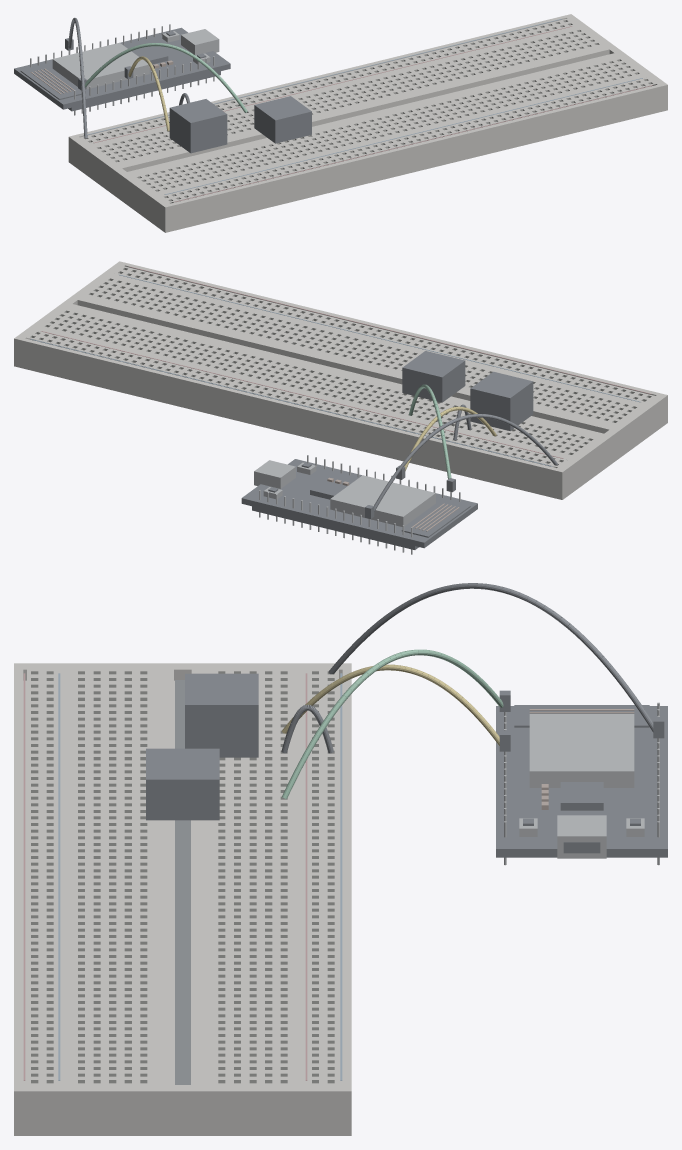
Rendered from step-8.glb.
3 renders of one model, top to bottom at view 1: azimuth 30°, elevation 25°; view 2: azimuth 150°, elevation 25°; view 3: azimuth 270°, elevation 25°, orthographic. The views are drawn at different scales.
Visible parts, largest first — view 1: breadboard__mesh, uno__mesh, piezo__mesh, button__mesh, button_signal__mesh, ground_supply__mesh, piezo_signal__mesh; view 2: breadboard__mesh, uno__mesh, piezo__mesh, button__mesh, ground_supply__mesh, button_signal__mesh, piezo_signal__mesh; view 3: breadboard__mesh, uno__mesh, piezo__mesh, button__mesh, ground_supply__mesh, button_signal__mesh, piezo_signal__mesh.
Part boxes in pixels (x1=…): breadboard__mesh: x1=68, y1=14, x2=667, y2=232; uno__mesh: x1=14, y1=24, x2=230, y2=115; piezo__mesh: x1=169, y1=99, x2=227, y2=153; button__mesh: x1=254, y1=96, x2=311, y2=143; button_signal__mesh: x1=78, y1=43, x2=247, y2=112; ground_supply__mesh: x1=65, y1=17, x2=87, y2=138; piezo_signal__mesh: x1=124, y1=56, x2=169, y2=131; breadboard__mesh: x1=14, y1=261, x2=667, y2=499; uno__mesh: x1=241, y1=455, x2=477, y2=554; piezo__mesh: x1=470, y1=371, x2=533, y2=430; button__mesh: x1=402, y1=351, x2=465, y2=402; ground_supply__mesh: x1=365, y1=414, x2=557, y2=518; button_signal__mesh: x1=409, y1=384, x2=455, y2=492; piezo_signal__mesh: x1=396, y1=406, x2=496, y2=479; breadboard__mesh: x1=14, y1=663, x2=351, y2=1135; uno__mesh: x1=496, y1=702, x2=667, y2=865; piezo__mesh: x1=185, y1=673, x2=258, y2=757; button__mesh: x1=146, y1=748, x2=219, y2=820; ground_supply__mesh: x1=328, y1=583, x2=664, y2=738; button_signal__mesh: x1=282, y1=649, x2=510, y2=799; piezo_signal__mesh: x1=282, y1=664, x2=510, y2=751.
Bounding box in the file's own units: 0.165 × 0.0297 × 0.1065.
